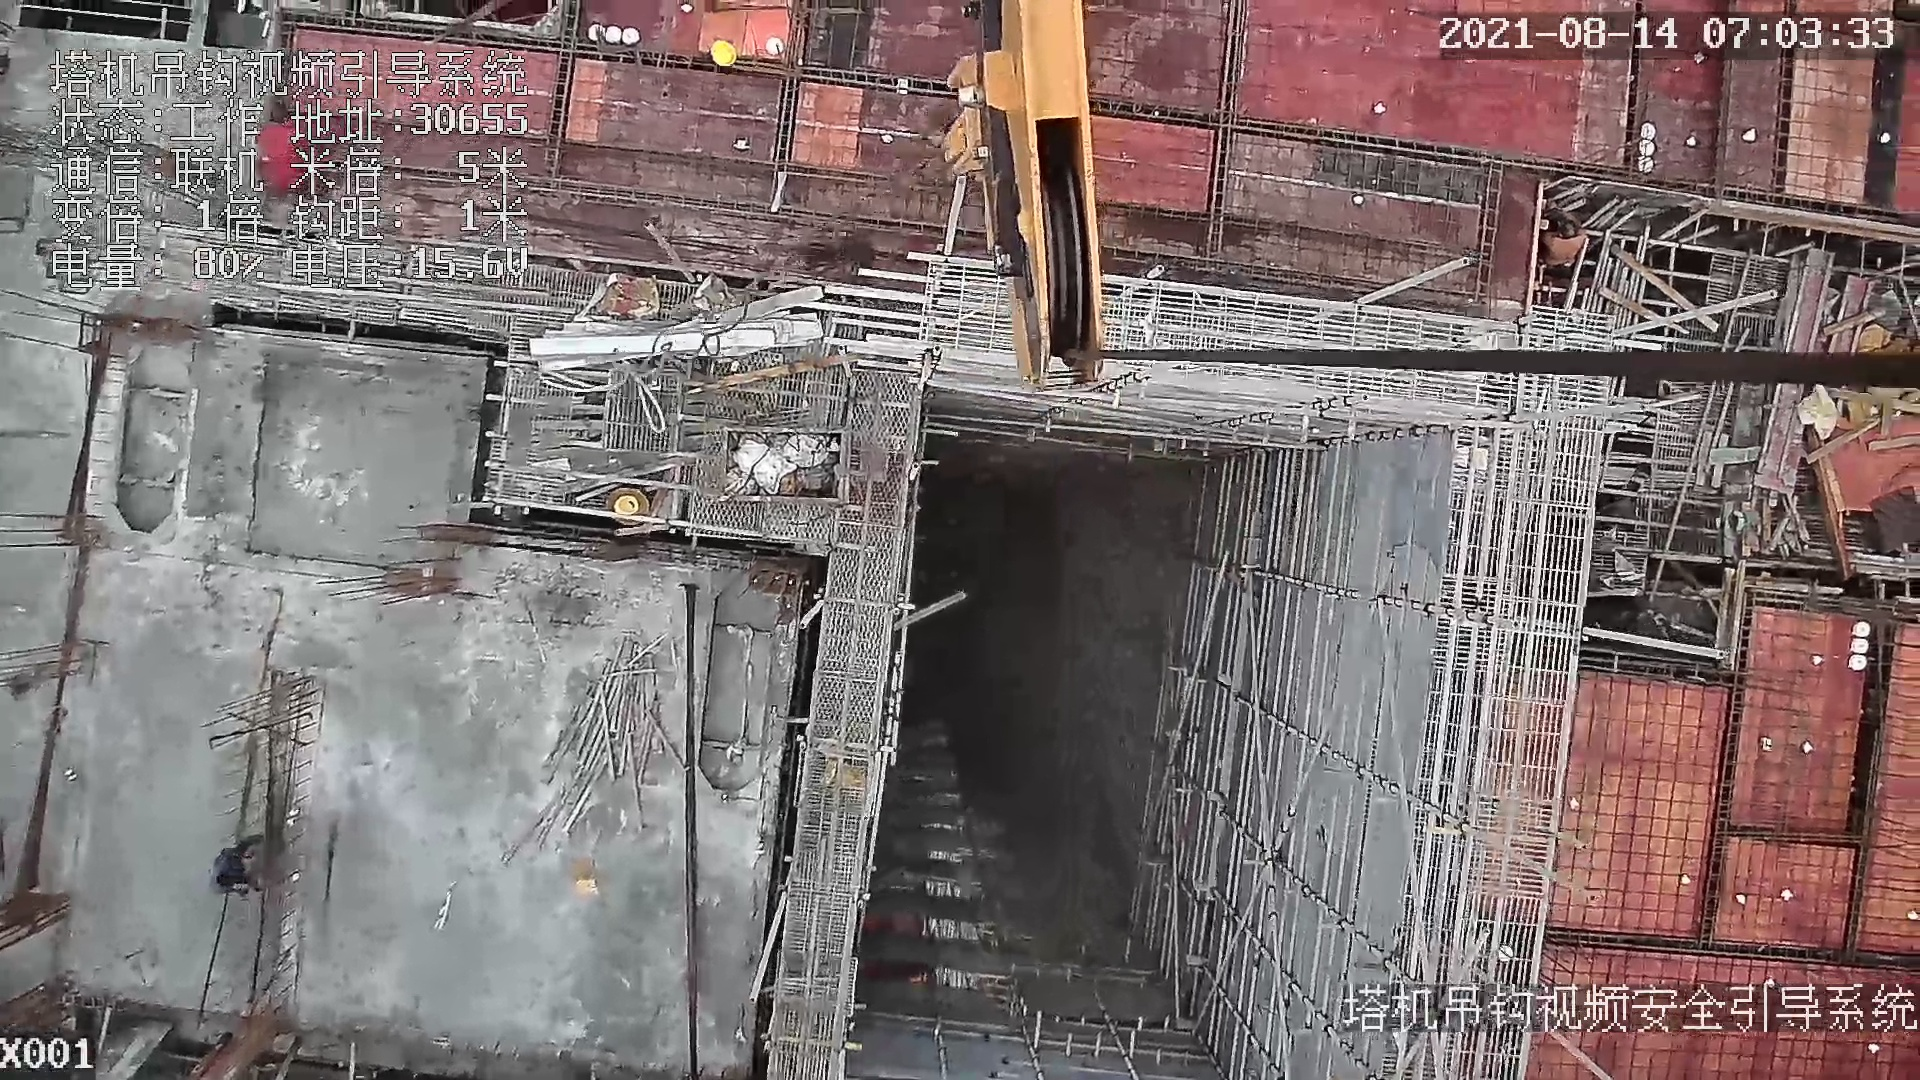helmet: (707, 36, 742, 70)
hook: (940, 1, 1119, 395)
person: (253, 102, 310, 197), (208, 833, 273, 900)
